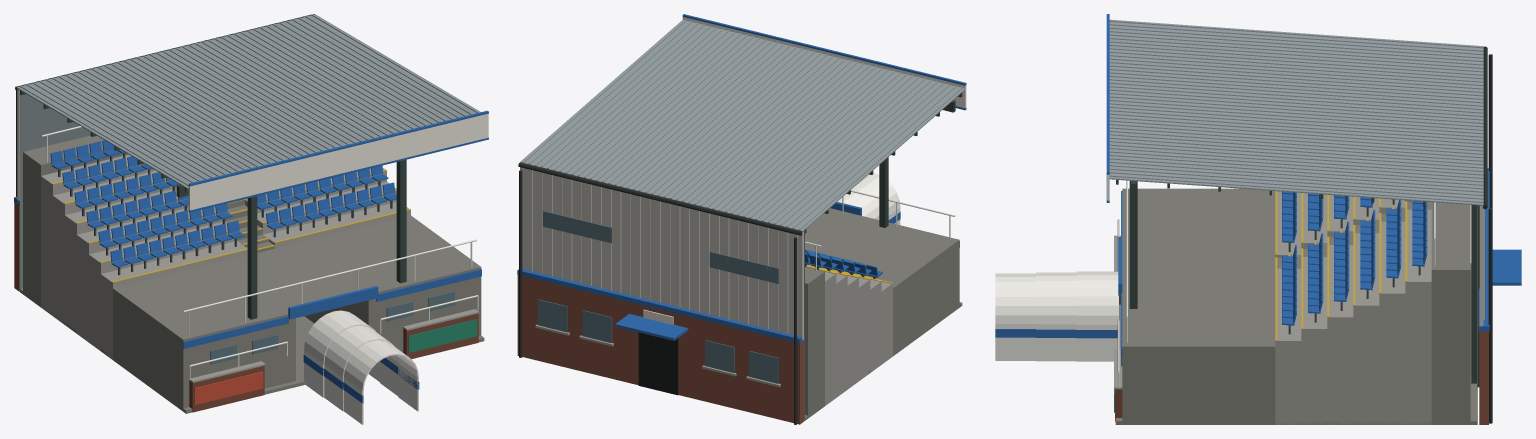
Rendered from main_stand_10_tunnel.glb.
The picture shows the model from 3 angles, left to right: view 1: azimuth 30°, elevation 25°; view 2: azimuth 150°, elevation 25°; view 3: azimuth 270°, elevation 25°; orthographic projection. The views are drawn at different scales.
Parts seen in each view (by area): view 1: Main_Corrugated_Sheet, Main_Concrete_Dark, Main_Concrete, Main_Club_Primary_Seats, Main_Club_Secondary_Fascia, Main_Tunnel_Canopy, Main_Club_Primary_Trim, Main_Corrugated_Underside, Main_Steel_Frame, Main_Front_Wall, Main_Railing_White, Main_Window_Glass (+5 smaller); view 2: Main_Corrugated_Sheet, Main_Rear_Cladding, Main_Rear_Brick, Main_Concrete_Dark, Main_Concrete, Main_Window_Glass, Main_Club_Primary_Trim, Main_Gutter, Main_Shadow_Gap, Main_Club_Secondary_Fascia, Main_Tunnel_Canopy, Main_Club_Primary_Seats (+2 smaller); view 3: Main_Corrugated_Sheet, Main_Concrete_Dark, Main_Concrete, Main_Tunnel_Canopy, Main_Club_Primary_Seats, Main_Club_Primary_Trim, Main_Steel_Frame, Main_Gutter, Main_Step_Edge_Yellow, Main_Rear_Brick, Main_Railing_White, Main_Rear_Cladding (+1 smaller).
Boxes of the visible parts, <box> form: Main_Corrugated_Sheet: <box>16,14,480,189</box>; Main_Concrete_Dark: <box>20,135,484,413</box>; Main_Concrete: <box>41,154,479,382</box>; Main_Club_Primary_Seats: <box>50,140,396,267</box>; Main_Club_Secondary_Fascia: <box>188,113,488,210</box>; Main_Tunnel_Canopy: <box>304,310,418,424</box>; Main_Club_Primary_Trim: <box>14,110,488,403</box>; Main_Corrugated_Underside: <box>17,88,188,291</box>; Main_Steel_Frame: <box>20,90,406,319</box>; Main_Front_Wall: <box>189,313,478,412</box>; Main_Railing_White: <box>41,126,478,379</box>; Main_Window_Glass: <box>210,291,454,364</box>; Main_Corrugated_Sheet: <box>520,19,965,231</box>; Main_Rear_Cladding: <box>520,167,803,340</box>; Main_Rear_Brick: <box>517,275,804,424</box>; Main_Concrete_Dark: <box>805,208,962,420</box>; Main_Concrete: <box>535,271,892,405</box>; Main_Window_Glass: <box>538,211,778,383</box>; Main_Club_Primary_Trim: <box>517,14,966,343</box>; Main_Gutter: <box>518,162,802,424</box>; Main_Shadow_Gap: <box>638,332,678,395</box>; Main_Club_Secondary_Fascia: <box>643,17,966,324</box>; Main_Tunnel_Canopy: <box>837,173,900,224</box>; Main_Club_Primary_Seats: <box>805,249,882,277</box>; Main_Corrugated_Sheet: <box>1109,19,1483,205</box>; Main_Concrete_Dark: <box>1115,188,1476,424</box>; Main_Concrete: <box>1114,191,1431,424</box>; Main_Tunnel_Canopy: <box>995,271,1118,361</box>; Main_Club_Primary_Seats: <box>1282,191,1427,325</box>; Main_Club_Primary_Trim: <box>995,14,1521,356</box>; Main_Steel_Frame: <box>1116,179,1479,387</box>; Main_Gutter: <box>1482,46,1492,423</box>; Main_Step_Edge_Yellow: <box>1275,191,1407,340</box>; Main_Rear_Brick: <box>1479,331,1488,424</box>; Main_Railing_White: <box>1117,180,1435,387</box>; Main_Rear_Cladding: <box>1479,205,1484,326</box>.
Size of the model in its own units: 11.52 by 8.56 by 16.17.
